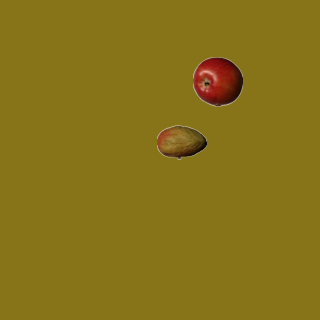Apple Braeburn: (192, 56, 242, 106)
Papaya: (156, 117, 206, 167)
